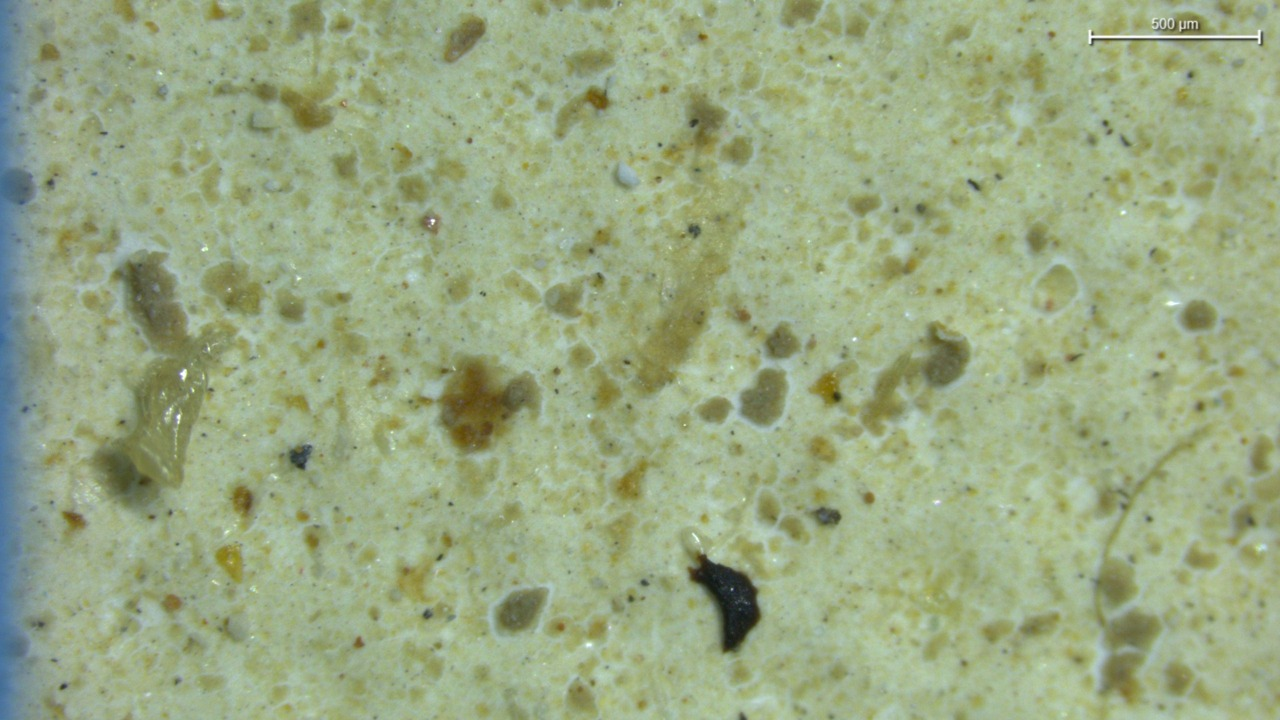microplastic_fragment: (123, 357, 207, 486), (614, 162, 640, 188)
